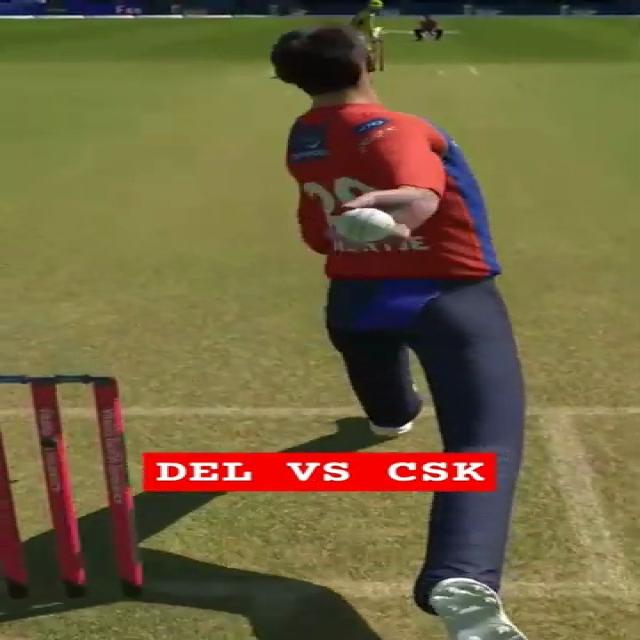ball: (327, 207, 395, 242)
